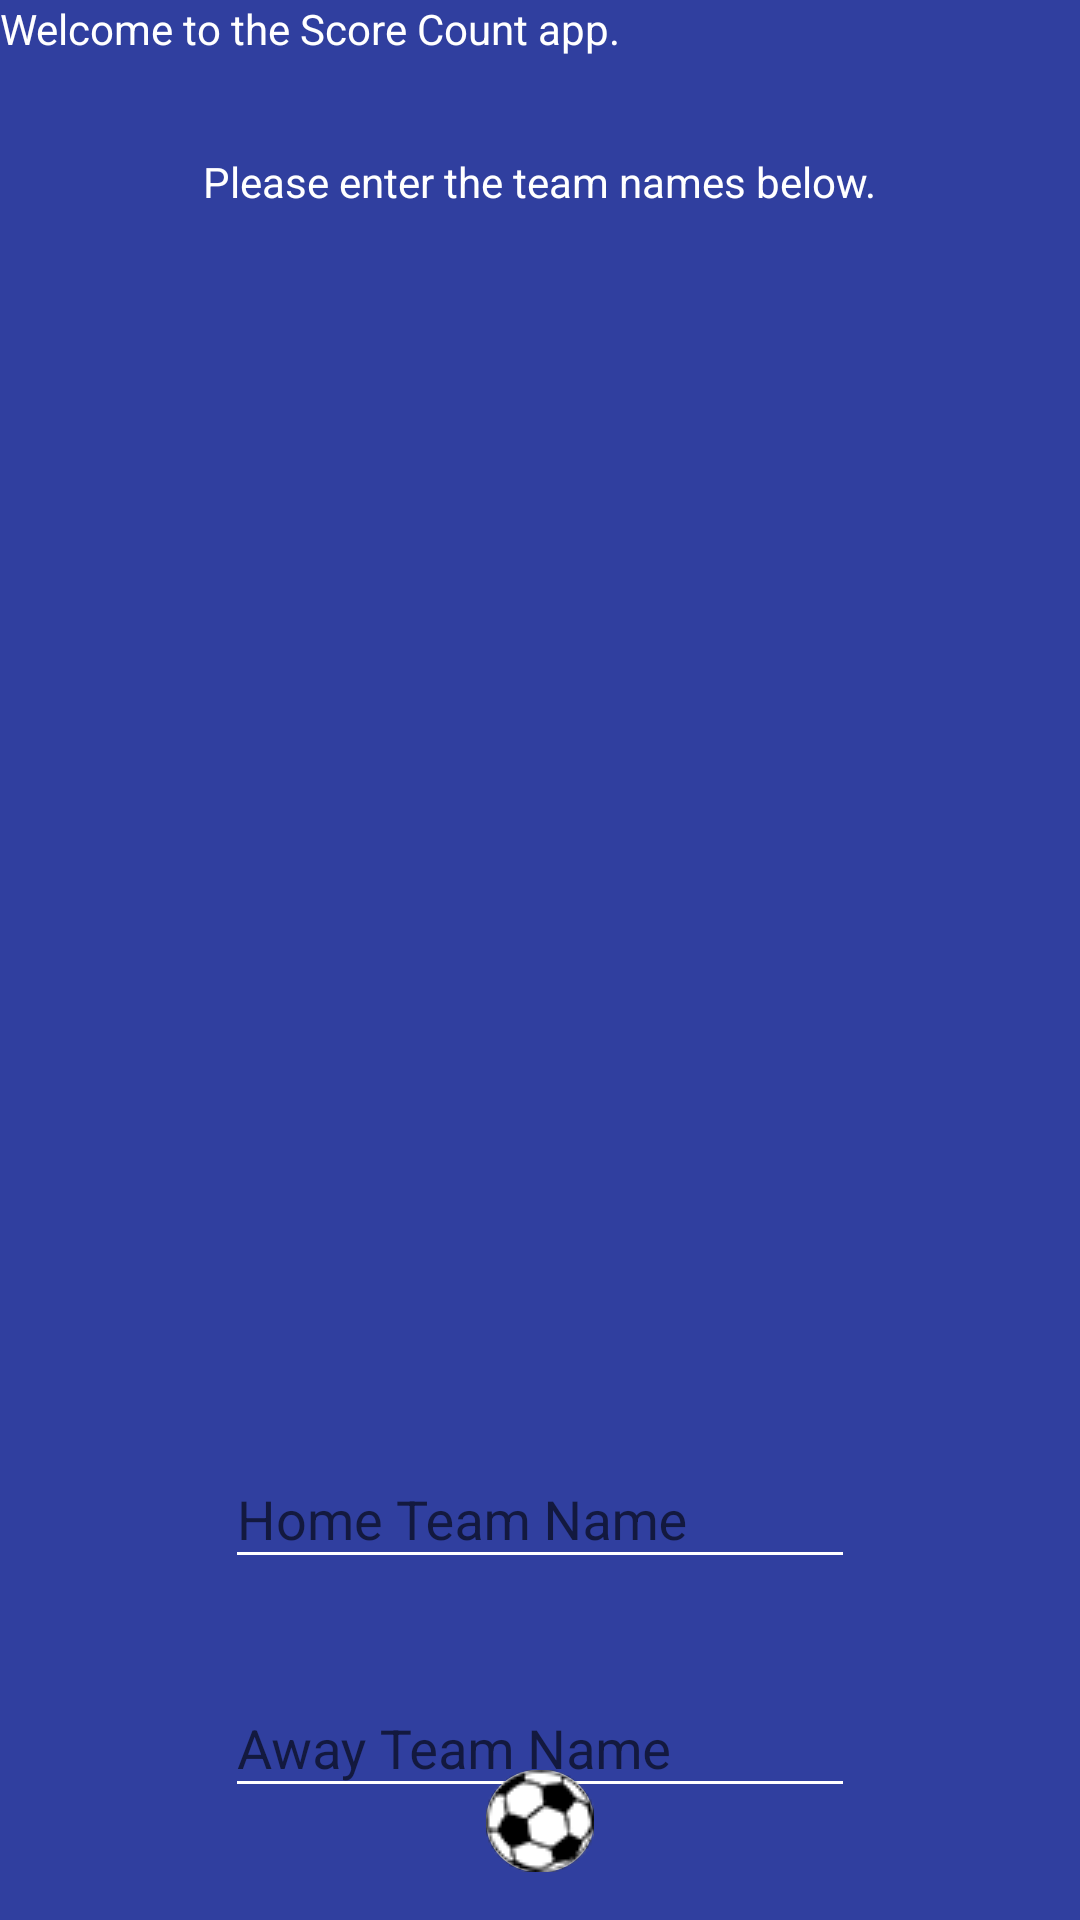

Screen size 1080px x 1920px. Icon name, then its center in pixels as (x=x, y=y):
ball: (x=540, y=1821)
